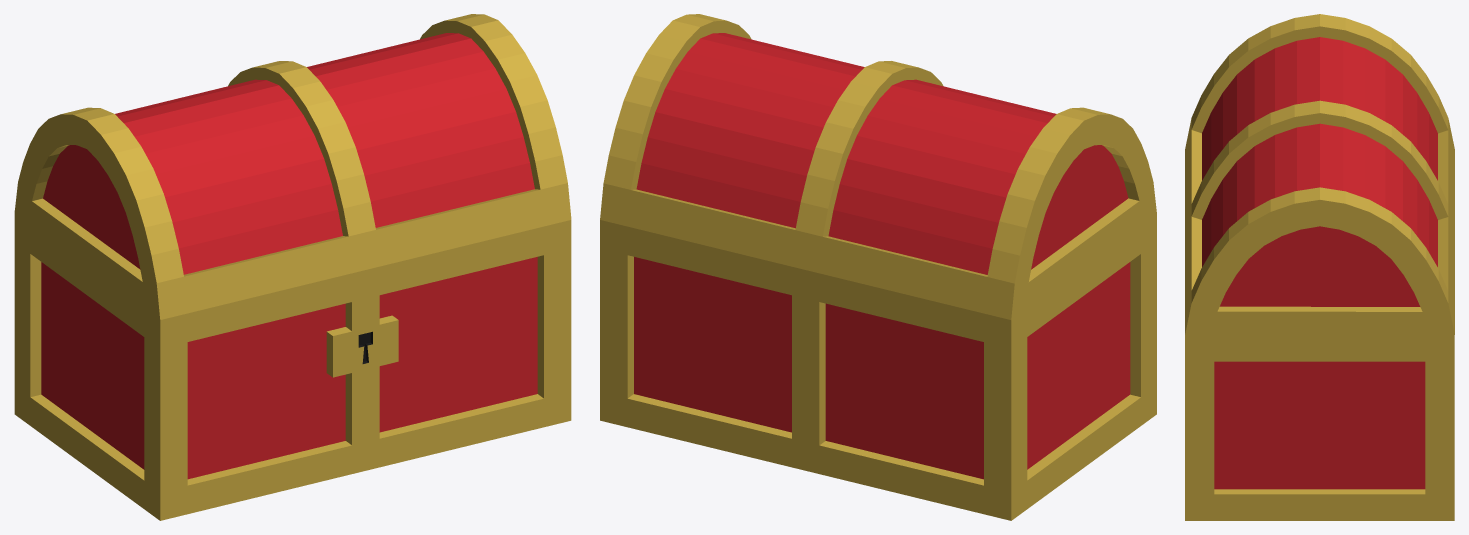
Rendered from TreasureChest.fbx.
The picture shows the model from 3 angles, left to right: view 1: azimuth 30°, elevation 25°; view 2: azimuth 150°, elevation 25°; view 3: azimuth 270°, elevation 25°; orthographic projection. The views are drawn at different scales.
Visible parts, largest first — view 1: Chest Bottom LOD0, Chest Lid LOD0; view 2: Chest Bottom LOD0, Chest Lid LOD0; view 3: Chest Lid LOD0, Chest Bottom LOD0.
Boxes of the visible parts, bbox=[...] form: Chest Bottom LOD0: bbox=[14, 214, 571, 520]; Chest Lid LOD0: bbox=[14, 14, 571, 319]; Chest Bottom LOD0: bbox=[600, 214, 1156, 520]; Chest Lid LOD0: bbox=[600, 14, 1156, 319]; Chest Lid LOD0: bbox=[1185, 14, 1454, 334]; Chest Bottom LOD0: bbox=[1185, 335, 1454, 520].
Size of what is drawn, in the model's own units: 75 by 60.47 by 46.03.
